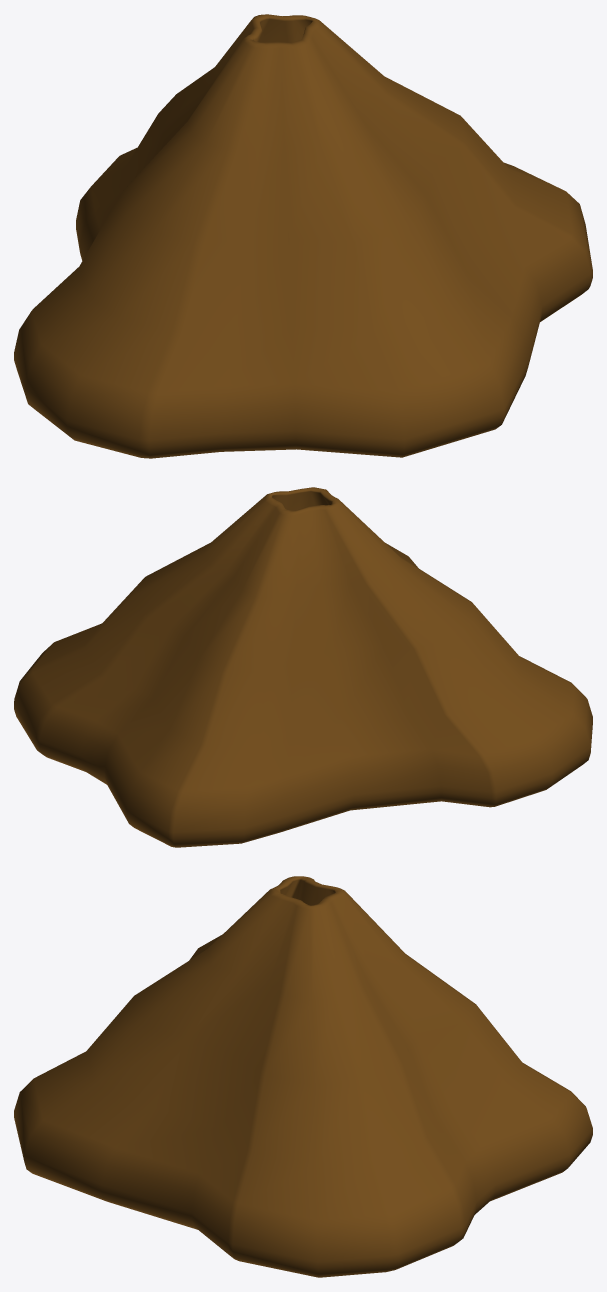
The model's file is AntHillSmooth.fbx.
The picture shows the model from 3 angles, top to bottom: view 1: azimuth 30°, elevation 25°; view 2: azimuth 150°, elevation 25°; view 3: azimuth 270°, elevation 25°; orthographic projection. The views are drawn at different scales.
Visible parts, largest first — view 1: Plane.001; view 2: Plane.001; view 3: Plane.001.
Part boxes in pixels (x1,y1,x2,y2): Plane.001: (14, 14, 592, 458); Plane.001: (14, 487, 592, 847); Plane.001: (14, 876, 592, 1277).
Size of the model in its own units: 88.51 by 43.02 by 86.61.
